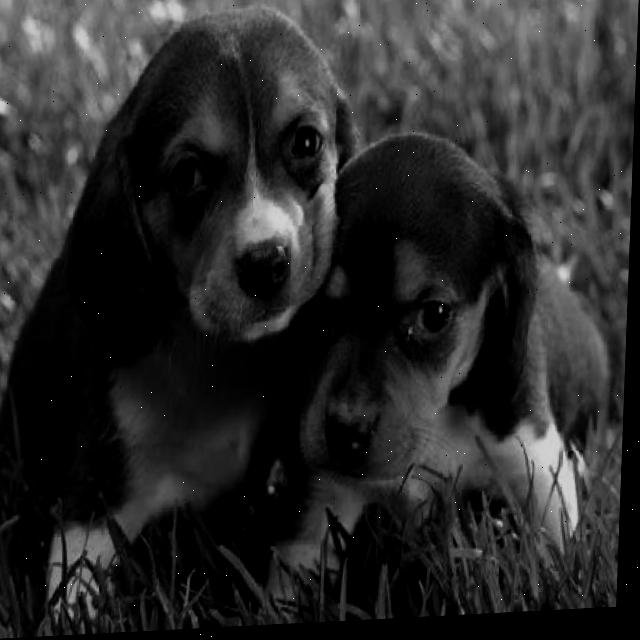Dog: (317, 86, 633, 571), (82, 7, 345, 558)
